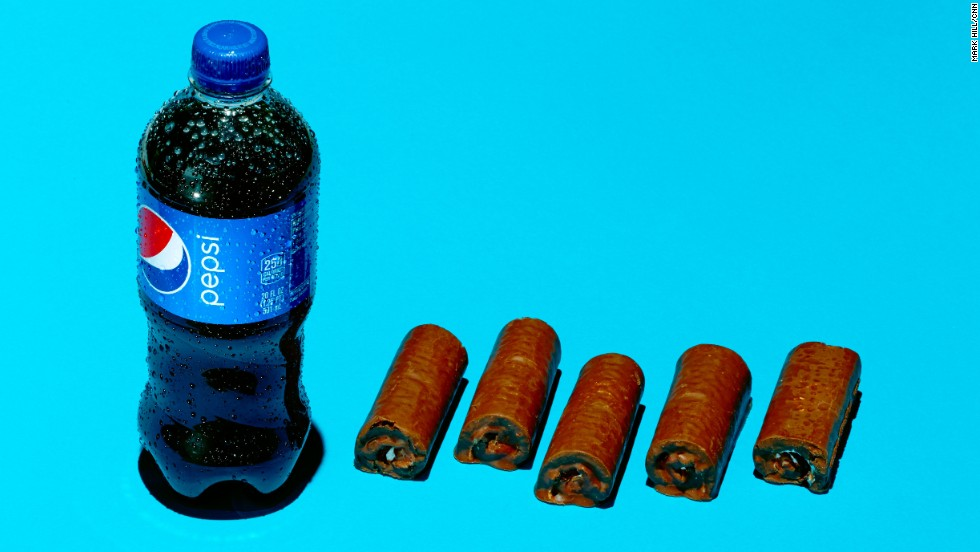pepsi: (136, 200, 190, 292)
